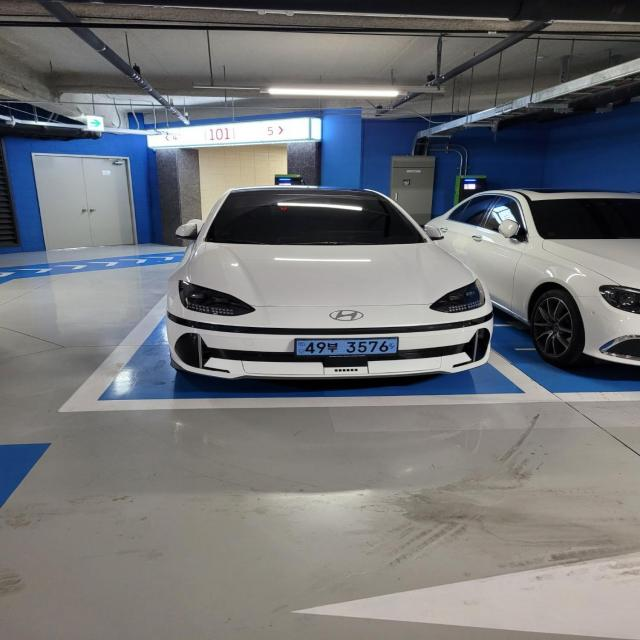EV_plate: (286, 336, 404, 364)
car: (164, 184, 495, 383)
